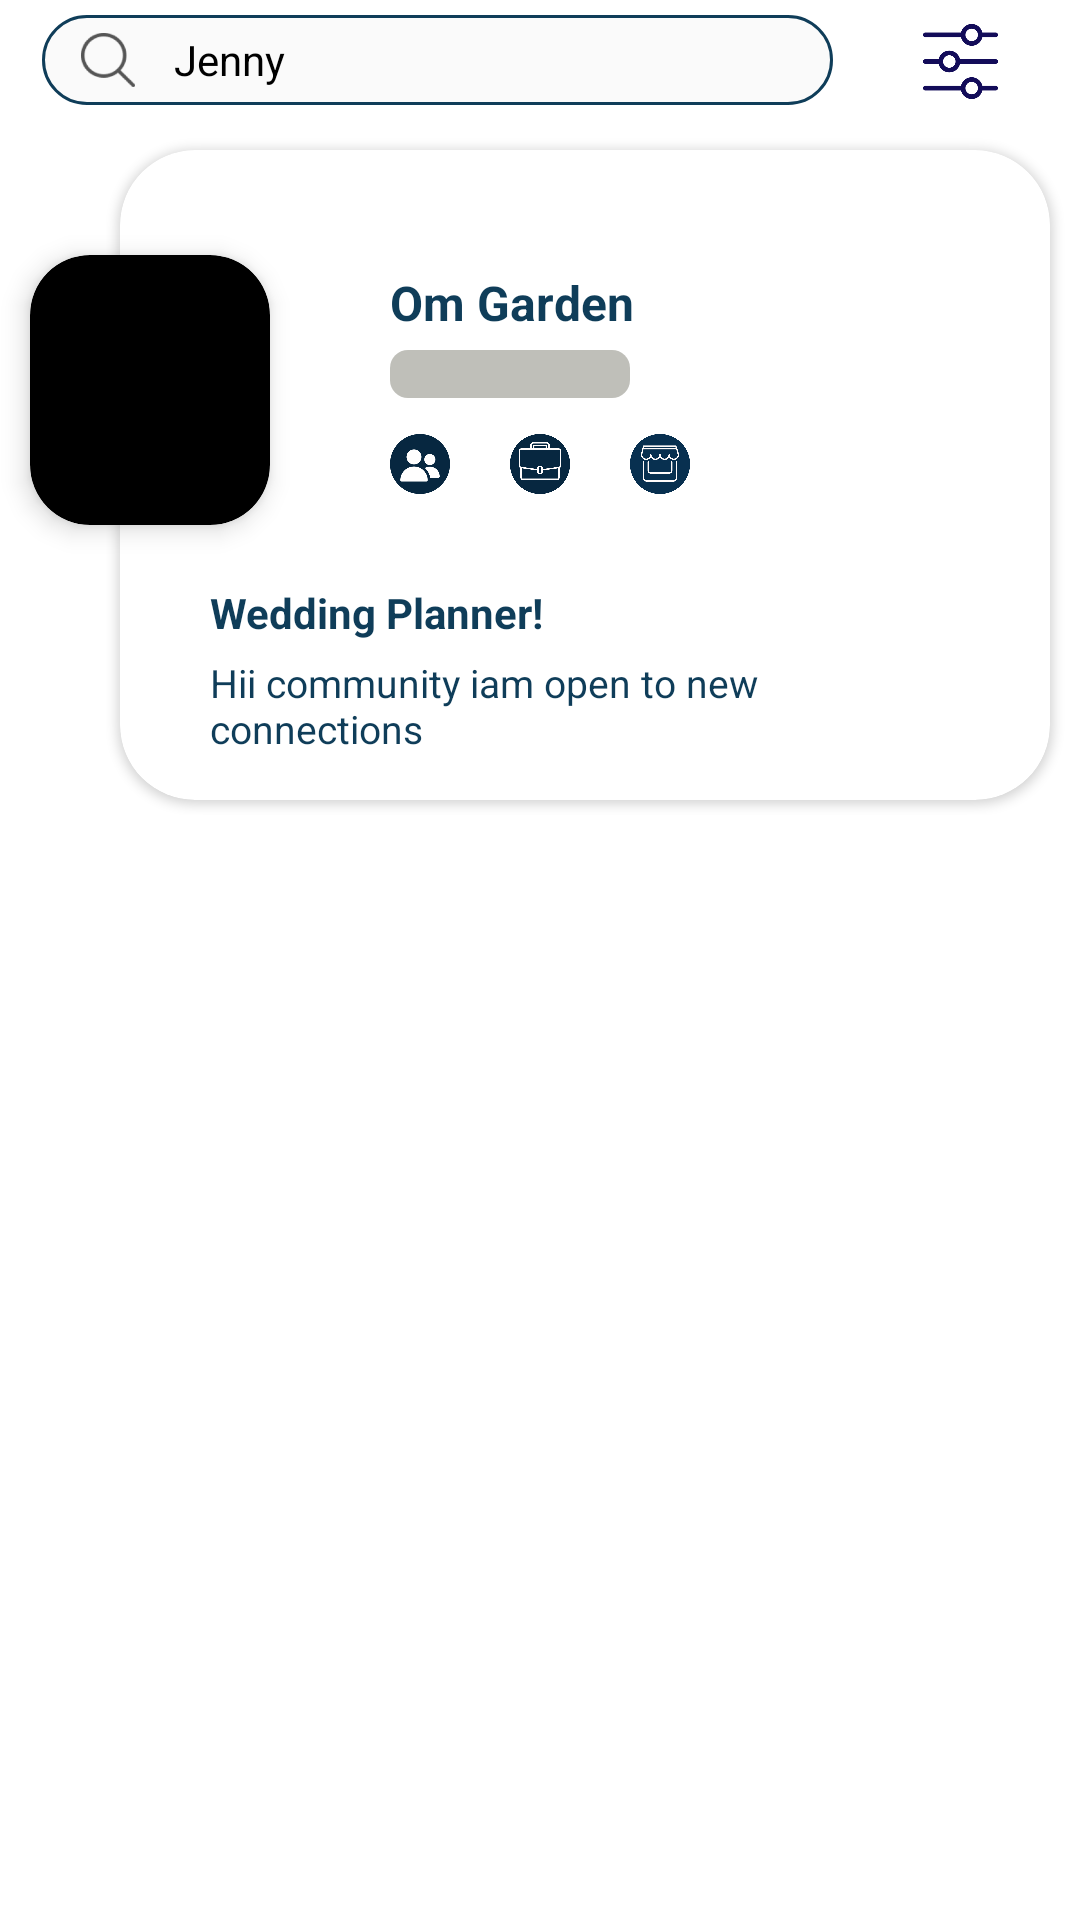

Icon click points for this 1080*1920 phone screenshot, format (x,y):
filter: (960,61)
magnifying: (108,60)
merchant: (660,464)
suitcase: (540,464)
